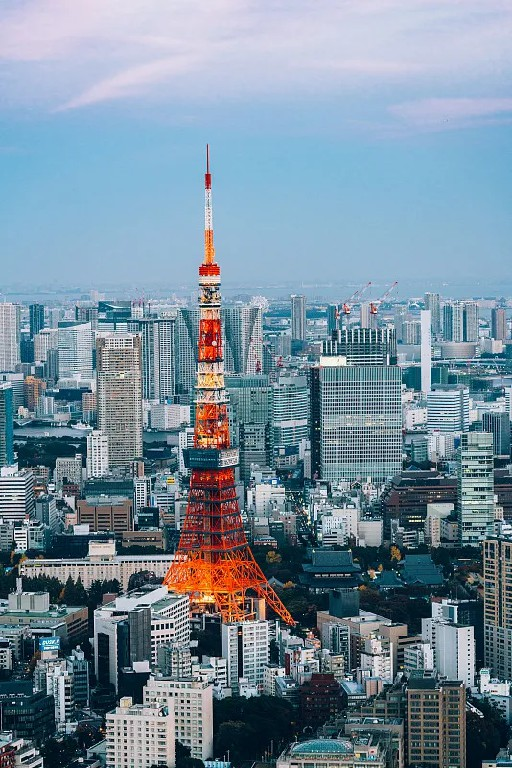Tokyo: (163, 140, 293, 626)
